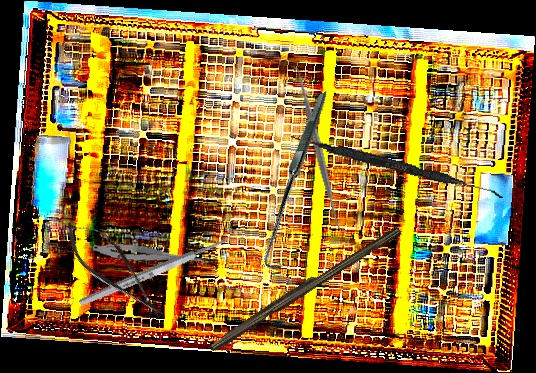Hook Surgical: (205, 90, 393, 274)
Micro Scissor: (53, 208, 177, 331), (92, 240, 211, 268)
Scalpel Handle: (206, 220, 403, 356)
Spatula Surgical: (288, 133, 506, 199), (288, 61, 350, 238)
Surgical Spoon: (77, 228, 246, 309)
